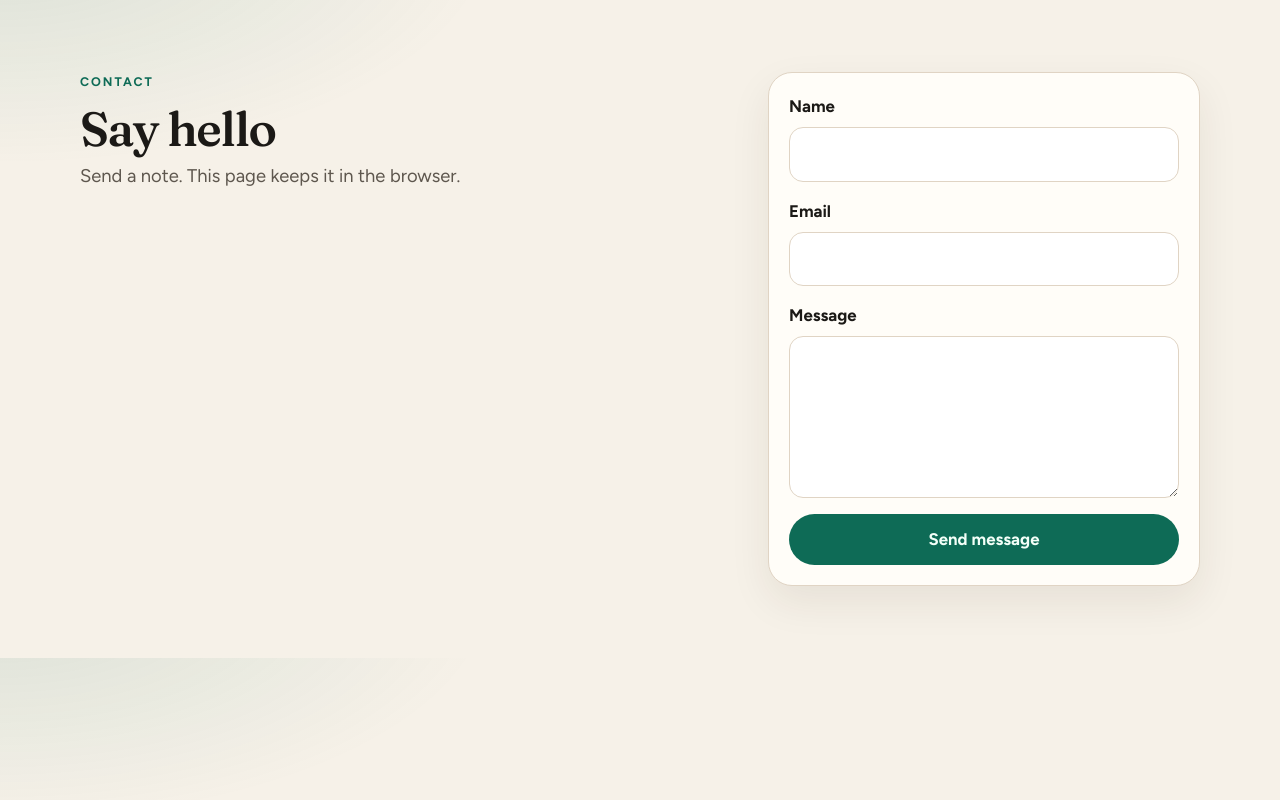
Test case: Contact › shows a validation message for each empty field
Click the button "Send message".
click(984, 540)  # box [789,514,1179,565]
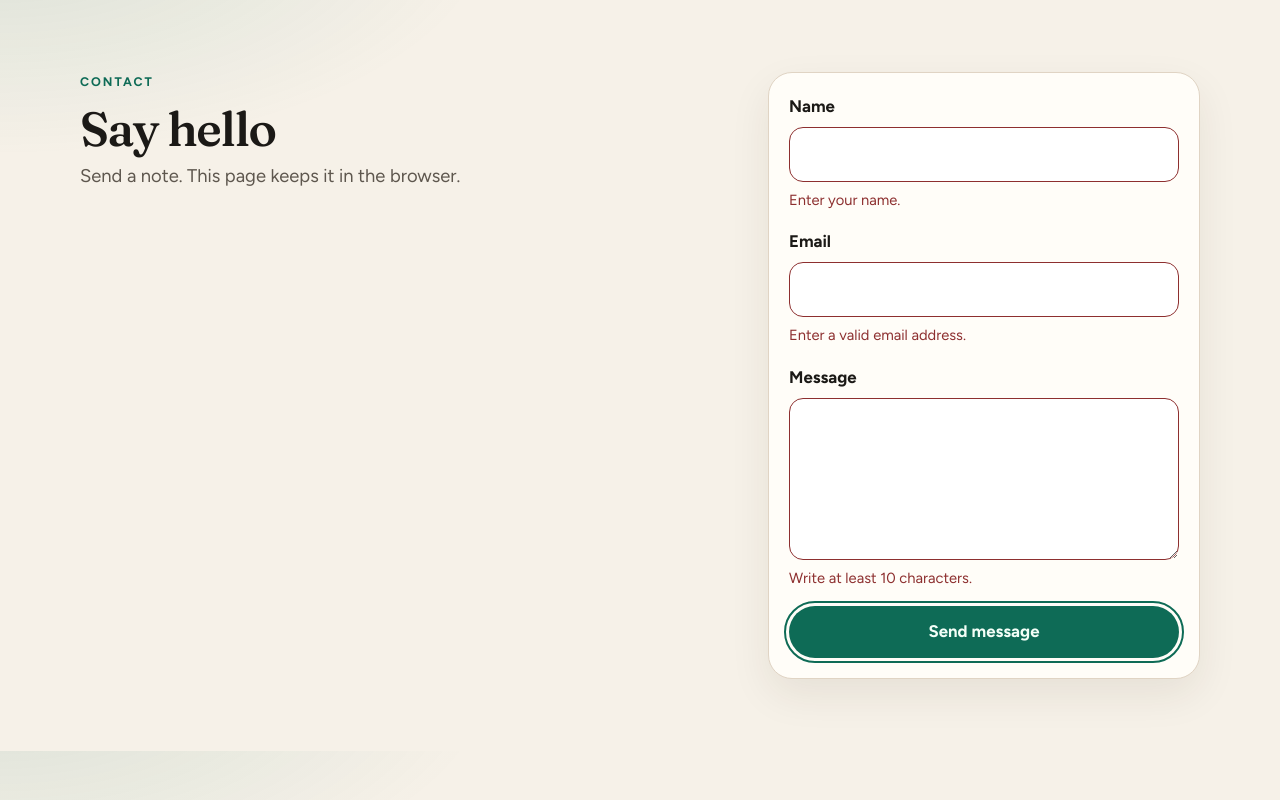
expect the messages read "Enter your name.", "Enter a valid email address.", "Write at least 10 characters.", in this order: met, box [789,191,900,209]; [789,326,966,344]; [789,569,972,587]
